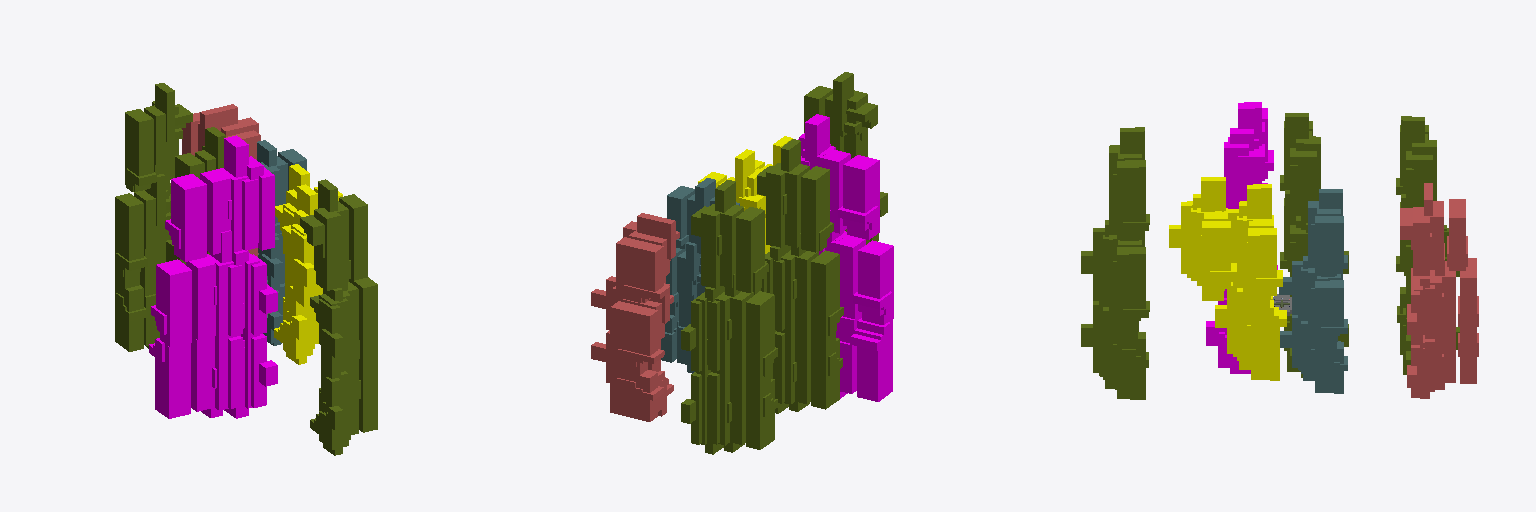
File: cubeSceneWithSpheres5.obj
The picture shows the model from 3 angles: view 1: azimuth 30°, elevation 25°; view 2: azimuth 150°, elevation 25°; view 3: azimuth 270°, elevation 25°; orthographic projection.
Visible parts, largest first — view 1: Concept07:group18 Concept07:group Concept07:wall_001, Concept07:group18 Concept07:group Concept07:wall_006, Concept07:group18 Concept07:group Concept07:wall_005, Concept07:group18 Concept07:group Concept07:wall_004, Concept07:group18 Concept07:group Concept07:wall_007, Concept07:group18 Concept07:group Concept07:wall_008, Concept07:group18 Concept07:group Concept07:wall_002; view 2: Concept07:group18 Concept07:group Concept07:wall_005, Concept07:group18 Concept07:group Concept07:wall_002, Concept07:group18 Concept07:group Concept07:wall_001, Concept07:group18 Concept07:group Concept07:wall_008, Concept07:group18 Concept07:group Concept07:wall_007, Concept07:group18 Concept07:group Concept07:wall_006, Concept07:group18 Concept07:group Concept07:wall_004; view 3: Concept07:group18 Concept07:group Concept07:wall_004, Concept07:group18 Concept07:group Concept07:wall_006, Concept07:group18 Concept07:group Concept07:wall_008, Concept07:group18 Concept07:group Concept07:wall_007, Concept07:group18 Concept07:group Concept07:wall_002, Concept07:group18 Concept07:group Concept07:wall_001, Concept07:group18 Concept07:group Concept07:wall_005.
Part boxes in pixels (x1,y1,x2,y2): Concept07:group18 Concept07:group Concept07:wall_001: (149, 135, 277, 418); Concept07:group18 Concept07:group Concept07:wall_006: (300, 179, 377, 455); Concept07:group18 Concept07:group Concept07:wall_005: (115, 83, 192, 351); Concept07:group18 Concept07:group Concept07:wall_004: (274, 164, 342, 364); Concept07:group18 Concept07:group Concept07:wall_007: (257, 140, 306, 345); Concept07:group18 Concept07:group Concept07:wall_008: (182, 104, 260, 256); Concept07:group18 Concept07:group Concept07:wall_002: (166, 127, 225, 264); Concept07:group18 Concept07:group Concept07:wall_005: (681, 180, 777, 454); Concept07:group18 Concept07:group Concept07:wall_002: (754, 139, 843, 413); Concept07:group18 Concept07:group Concept07:wall_001: (798, 114, 893, 401); Concept07:group18 Concept07:group Concept07:wall_008: (591, 213, 679, 421); Concept07:group18 Concept07:group Concept07:wall_007: (661, 178, 739, 373); Concept07:group18 Concept07:group Concept07:wall_006: (804, 72, 887, 244); Concept07:group18 Concept07:group Concept07:wall_004: (698, 136, 792, 253); Concept07:group18 Concept07:group Concept07:wall_004: (1169, 177, 1286, 380); Concept07:group18 Concept07:group Concept07:wall_006: (1081, 127, 1149, 399); Concept07:group18 Concept07:group Concept07:wall_008: (1400, 183, 1478, 398); Concept07:group18 Concept07:group Concept07:wall_007: (1279, 189, 1347, 393); Concept07:group18 Concept07:group Concept07:wall_002: (1280, 113, 1348, 377); Concept07:group18 Concept07:group Concept07:wall_001: (1206, 102, 1277, 373); Concept07:group18 Concept07:group Concept07:wall_005: (1396, 116, 1459, 374).
Size of the model in its own units: 130 by 153 by 206.